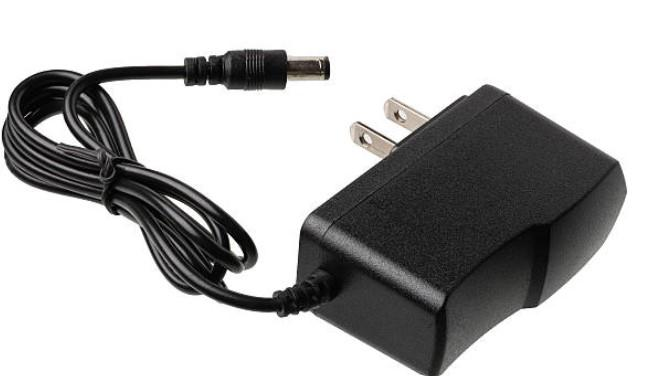cable: (1, 50, 628, 374)
